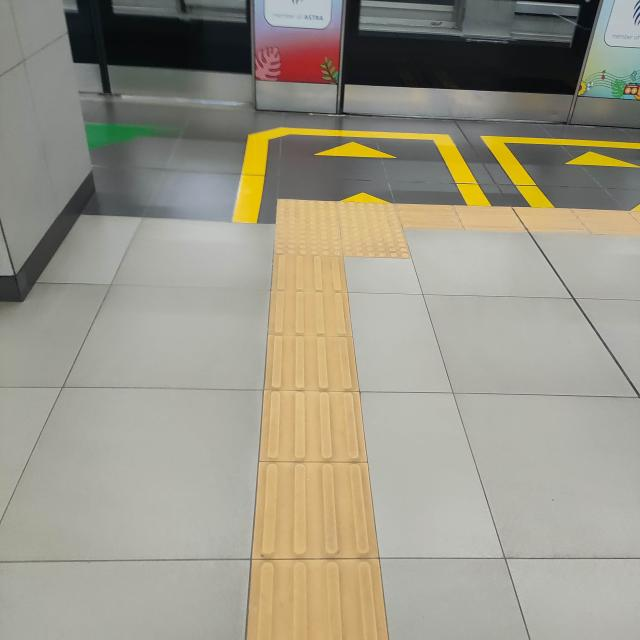kanan: (258, 175, 487, 273)
